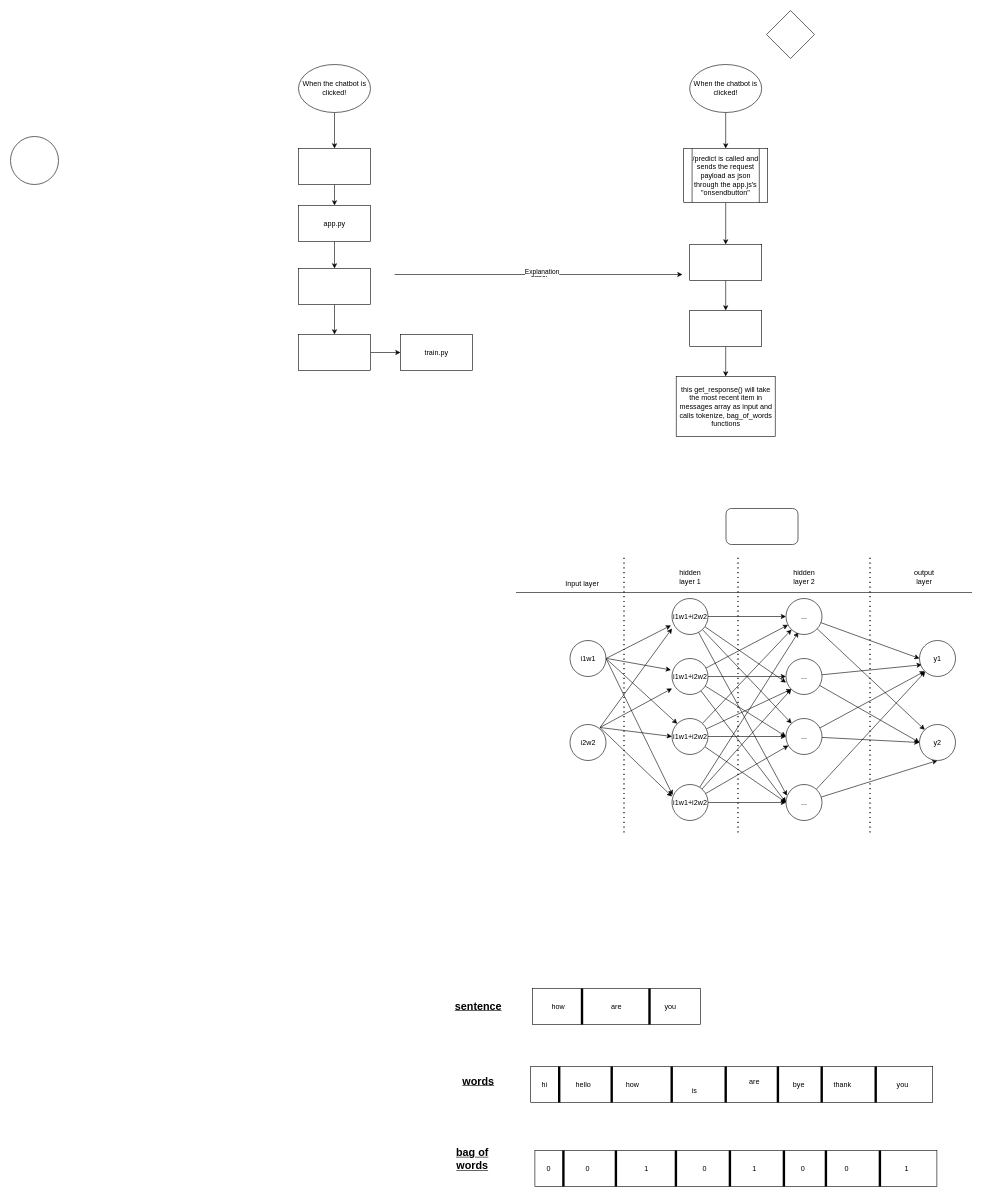
This 983x1198 diagram has some shape labels left out. Each missing label, with the centre of its shape:
"app.js" goes at pixel 334 166.
"app.js loads the user message and sends to /predict in app.py" goes at pixel 725 262.
"chat.py" goes at pixel 334 286.
"model.py nltk_utils.py" goes at pixel 334 352.
"Neural network Activation function" goes at pixel 761 526.
"this app.py renders the chat.py by calling get_response module" goes at pixel 725 328.
